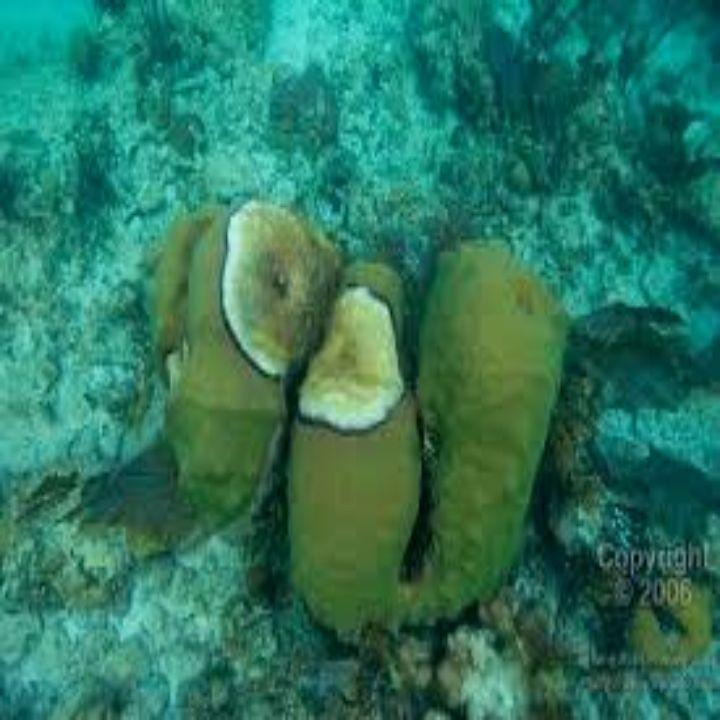Band disease: (216, 199, 341, 382), (294, 278, 424, 442)
